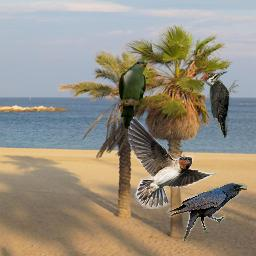Crow: (167, 183, 247, 241)
Cuckoo: (118, 60, 147, 129)
Swallow: (127, 116, 218, 209)
Woodpecker: (200, 71, 239, 139)
